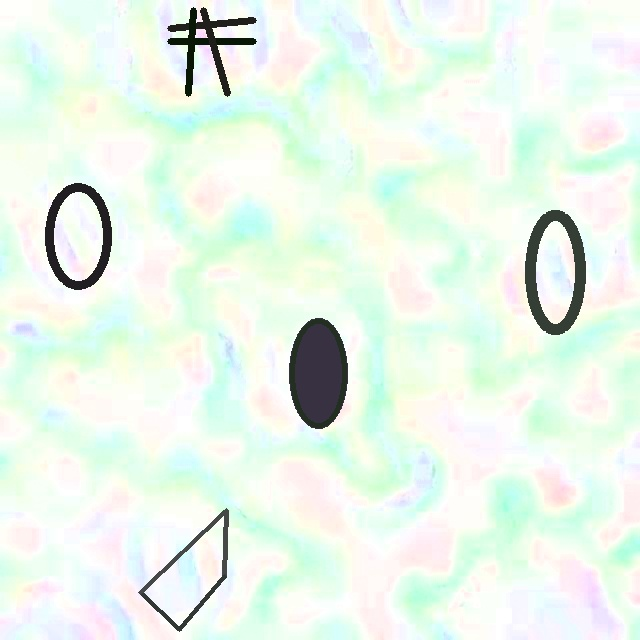close: (289, 318, 347, 428)
open: (138, 508, 226, 631), (167, 7, 256, 96), (525, 209, 585, 335), (46, 182, 111, 290)
